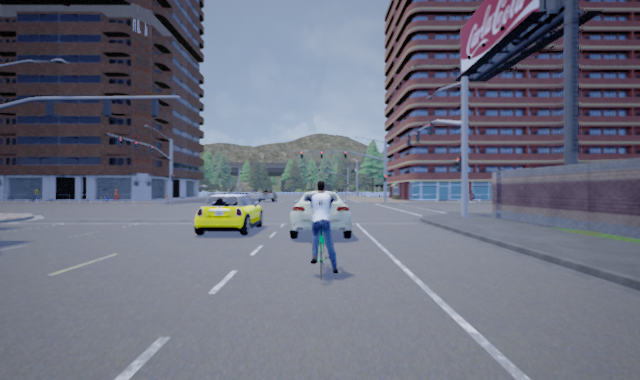bike: (309, 181, 340, 285)
pedestrian: (31, 186, 42, 202), (111, 186, 119, 202)
vehicle: (289, 190, 352, 240), (194, 193, 262, 236), (258, 189, 276, 203)
